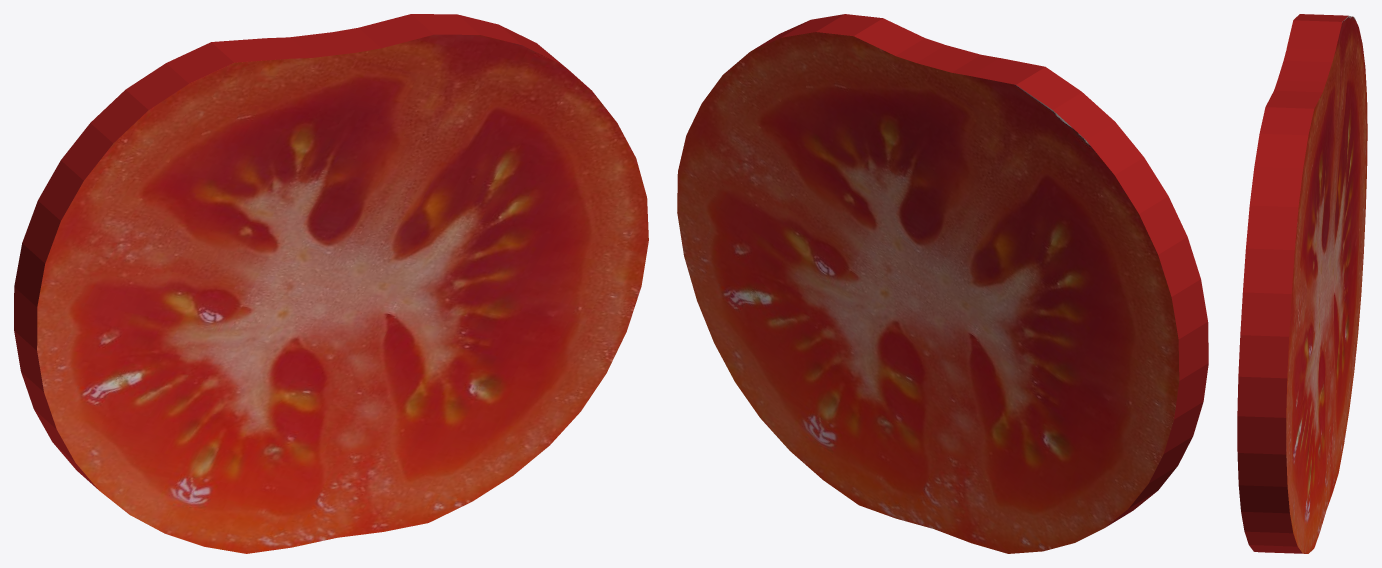
The model's file is TomatoPieces.fbx.
3 views of the same model, side by side, from view 1: azimuth 30°, elevation 25°; view 2: azimuth 150°, elevation 25°; view 3: azimuth 270°, elevation 25° (orthographic). The views are drawn at different scales.
Parts seen in each view (by area): view 1: pSphere1; view 2: pSphere1; view 3: pSphere1.
Boxes of the visible parts, box(x1,y1,x2,y2) form: pSphere1: box(14, 14, 648, 553); pSphere1: box(677, 14, 1208, 553); pSphere1: box(1237, 14, 1367, 553).
Size of the model in its own units: 29.04 by 23.99 by 6.32.
